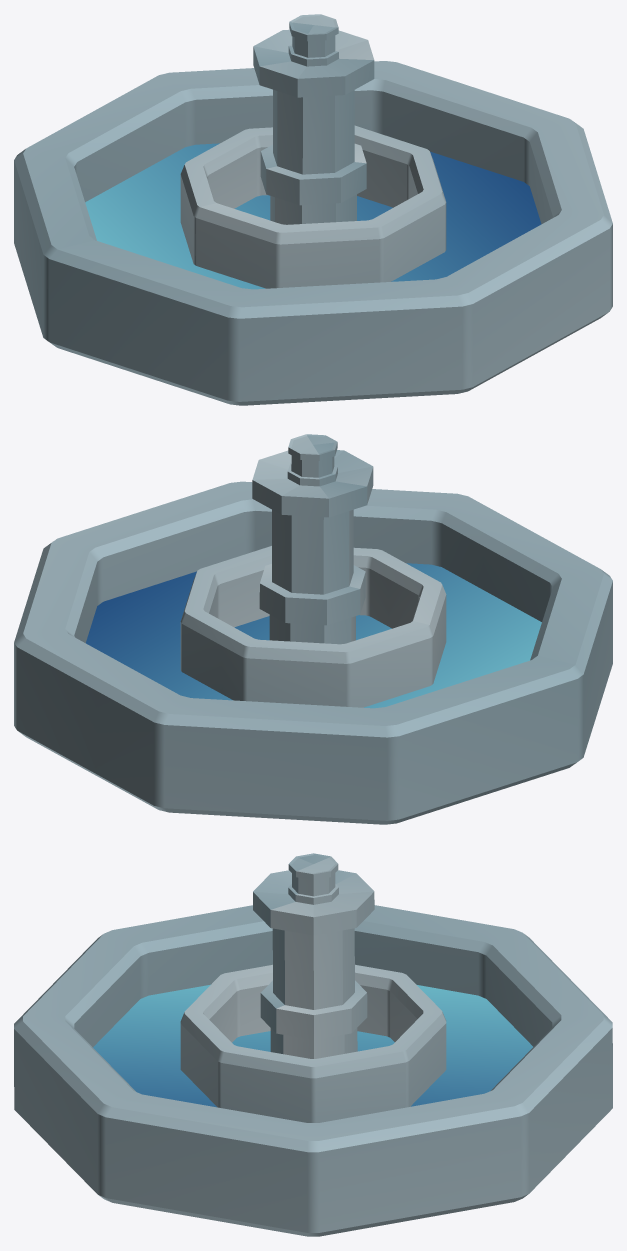
The model's file is Fountain.fbx.
The picture shows the model from 3 angles, top to bottom: view 1: azimuth 30°, elevation 25°; view 2: azimuth 150°, elevation 25°; view 3: azimuth 270°, elevation 25°; orthographic projection. The views are drawn at different scales.
Parts seen in each view (by area): view 1: Fountain_LOD0; view 2: Fountain_LOD0; view 3: Fountain_LOD0.
Part boxes in pixels (left/top/right/bottom): Fountain_LOD0: left=14, top=14, right=612, bottom=405; Fountain_LOD0: left=14, top=434, right=612, bottom=824; Fountain_LOD0: left=14, top=853, right=612, bottom=1236.
Size of what is drawn, in the model's own units: 292 by 139 by 292.
